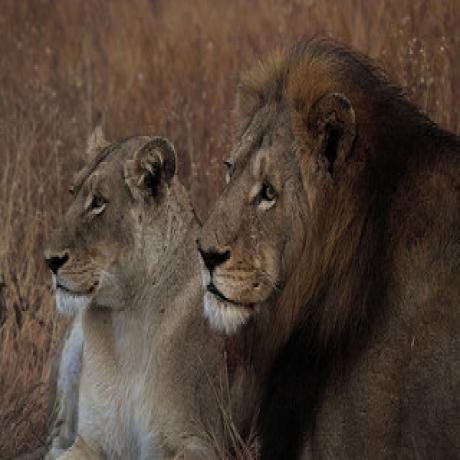Lion: (196, 33, 460, 460), (43, 123, 224, 460)
